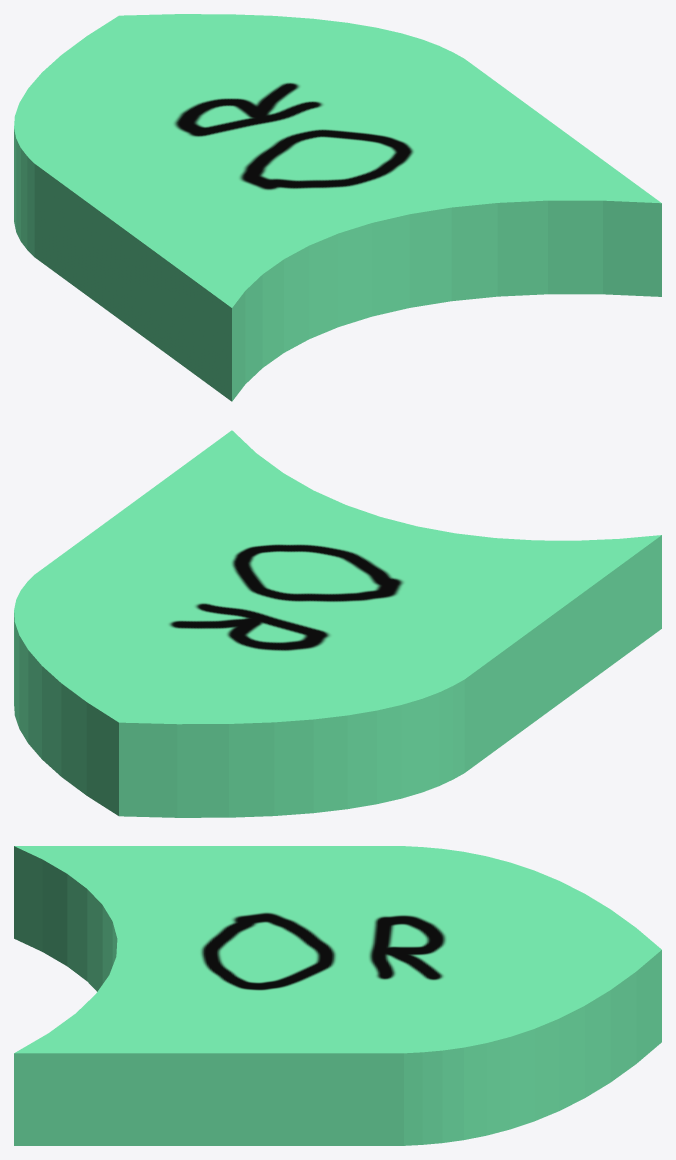
Rendered from OR Gate.fbx.
3 views of the same model, one above another, from view 1: azimuth 30°, elevation 25°; view 2: azimuth 150°, elevation 25°; view 3: azimuth 270°, elevation 25° (orthographic).
Parts seen in each view (by area): view 1: Plane; view 2: Plane; view 3: Plane.
Part boxes in pixels (bbox=[...]): Plane: bbox=[14, 14, 661, 401]; Plane: bbox=[14, 430, 661, 817]; Plane: bbox=[14, 846, 661, 1145].
Bounding box in the file's own units: 200 × 41.66 × 264.
Materials: 1 (1 with a texture image).
